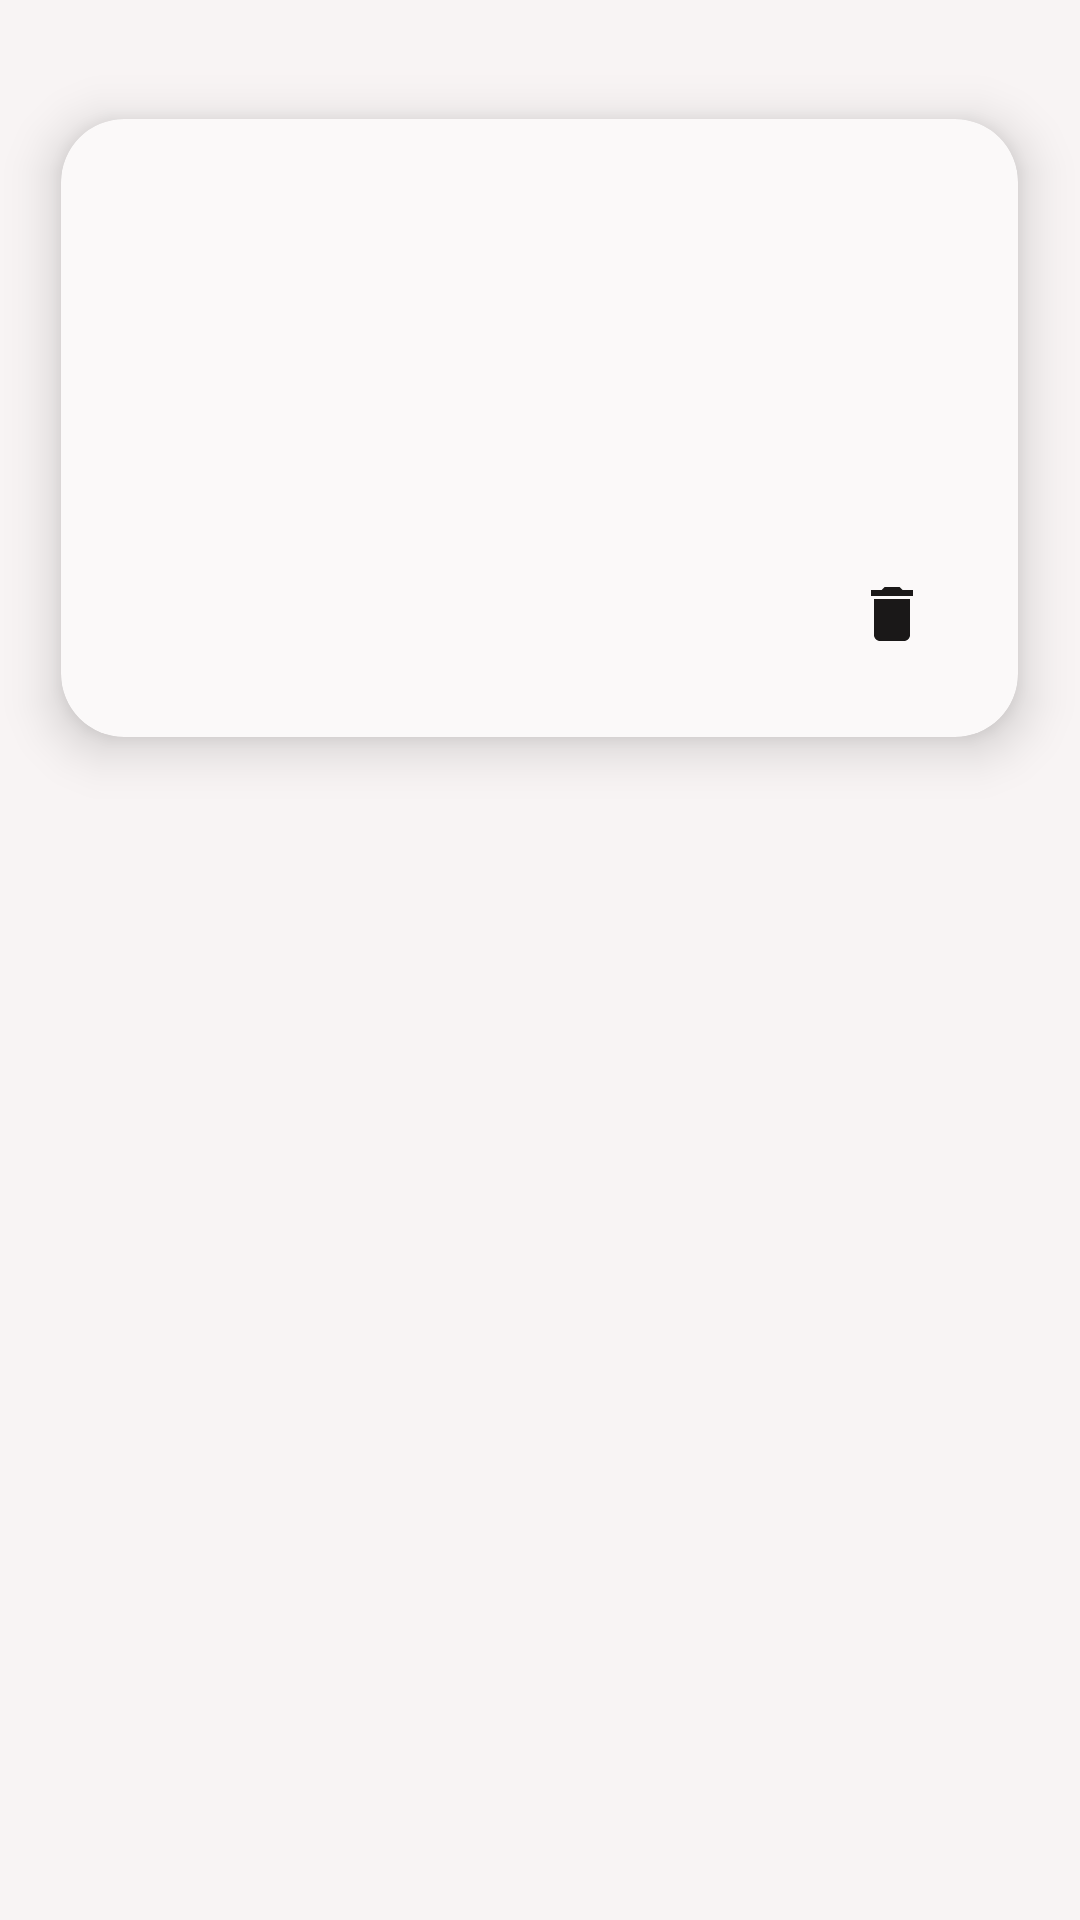

Point at icon controls on the screen. Image size 1080 × 1920, points as (x=x, y=y).
delete: (x=892, y=614)
